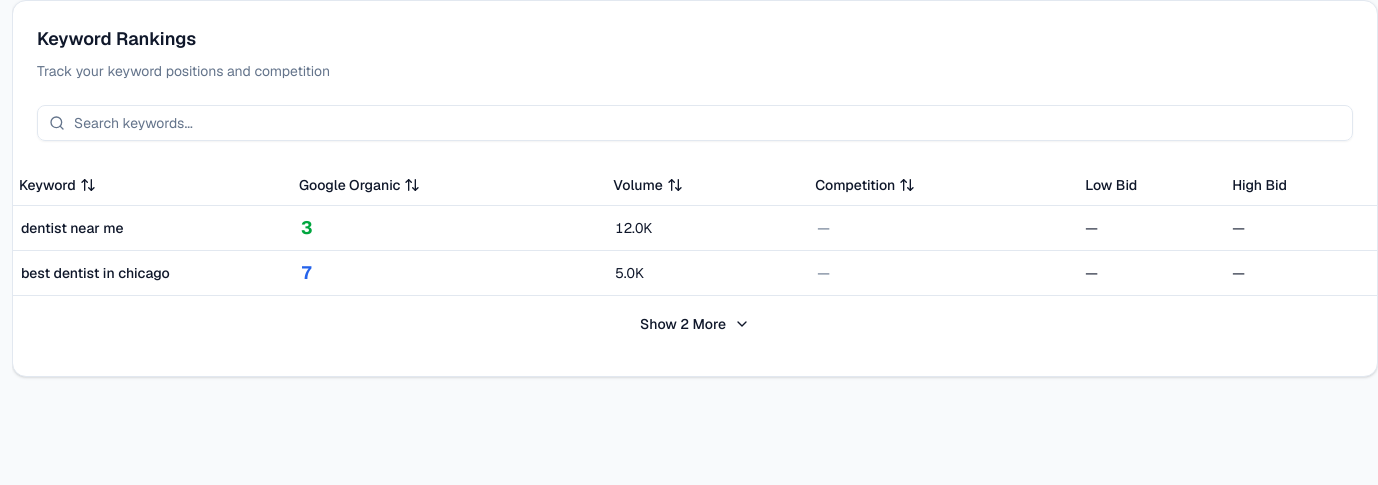
Scenario: KeywordTable › pagination › expands to show all keywords when Show More clicked
Click the button "Show 2 More". click: (695, 324)
box: [630, 308, 760, 340]
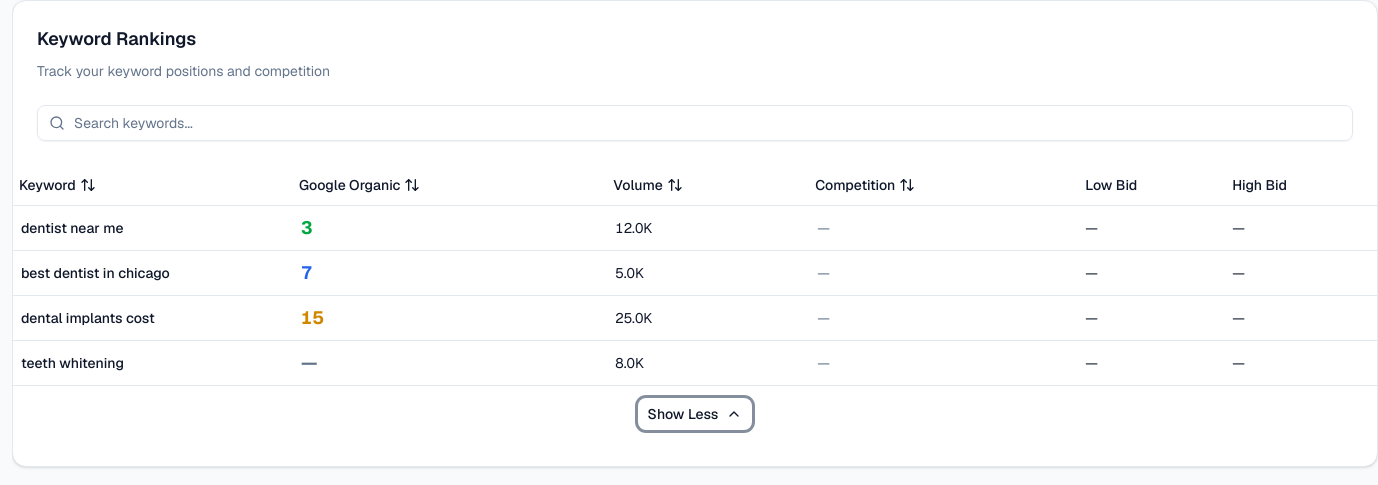
Expected: the text "dentist near me" is shown, [21, 218, 124, 236]
Expected: the text "teeth whitening" is shown, [21, 354, 124, 372]
